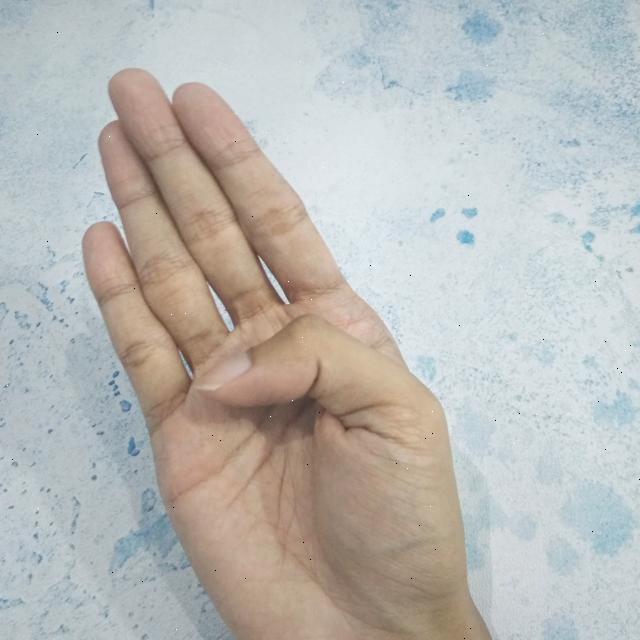B: (80, 61, 482, 640)
